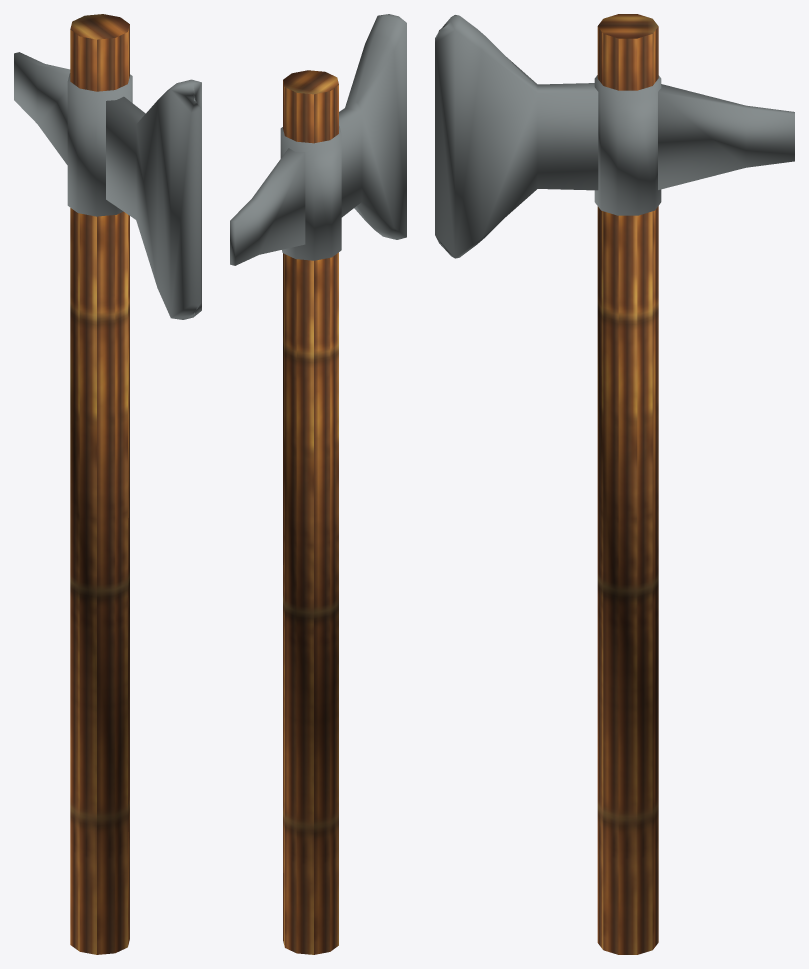
Rendered from inca_axe_1.dae.
3 views of the same model, side by side, from view 1: azimuth 30°, elevation 25°; view 2: azimuth 150°, elevation 25°; view 3: azimuth 270°, elevation 25° (orthographic). The views are drawn at different scales.
Visible parts, largest first — view 1: axe.001; view 2: axe.001; view 3: axe.001.
Boxes of the visible parts, x1=… form: axe.001: x1=14, y1=14, x2=201, y2=954; axe.001: x1=230, y1=14, x2=406, y2=954; axe.001: x1=435, y1=14, x2=794, y2=954.
Size of the model in its own units: 0.1161 by 0.661 by 1.87.
